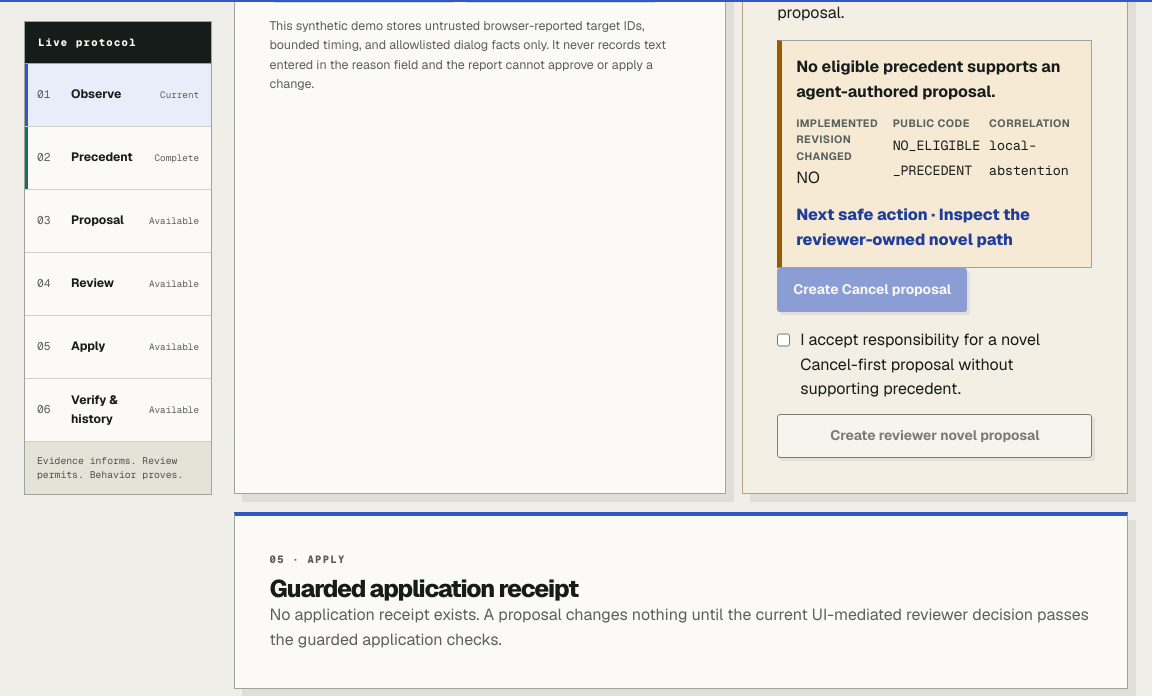
abstention exposes reviewer novel responsibility and never labels it as precedent-supported
(page scrolled)
Check: the button "Create reviewer novel proposal" is disabled, box left=777, top=415, right=1092, bottom=459
Click the checkbox labelled "I accept responsibility" at {"x": 784, "y": 340}, box left=777, top=328, right=790, bottom=352
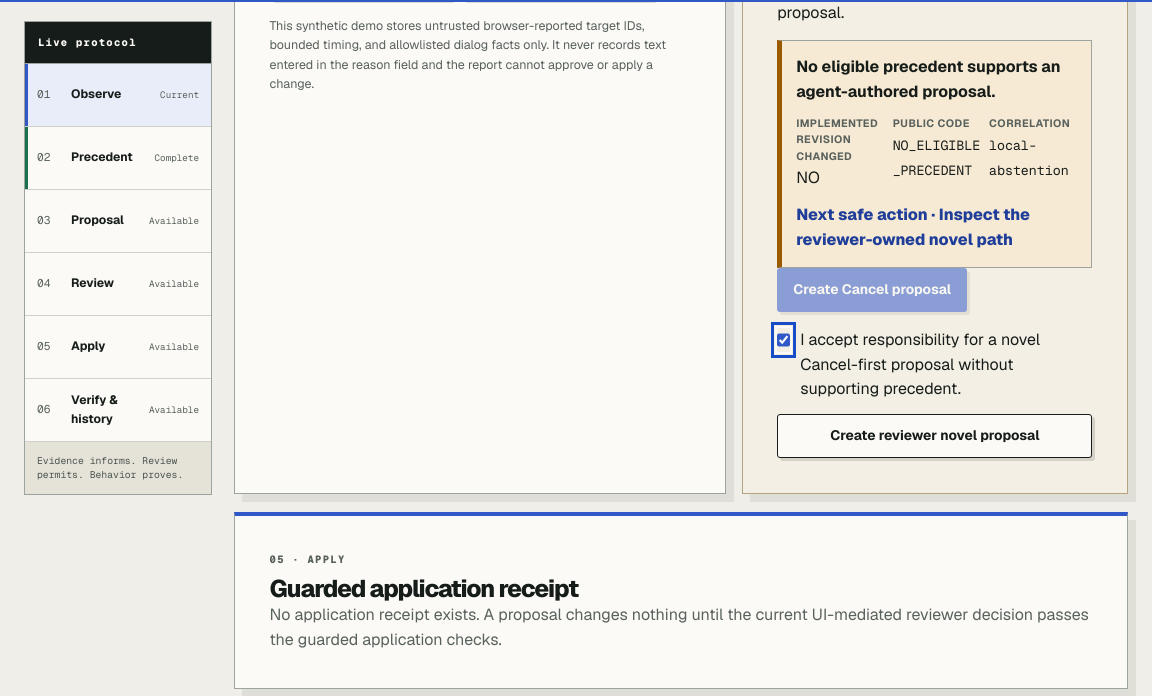
Click the button "Create reviewer novel proposal" at {"x": 935, "y": 437}, box left=777, top=415, right=1092, bottom=459
(page scrolled)
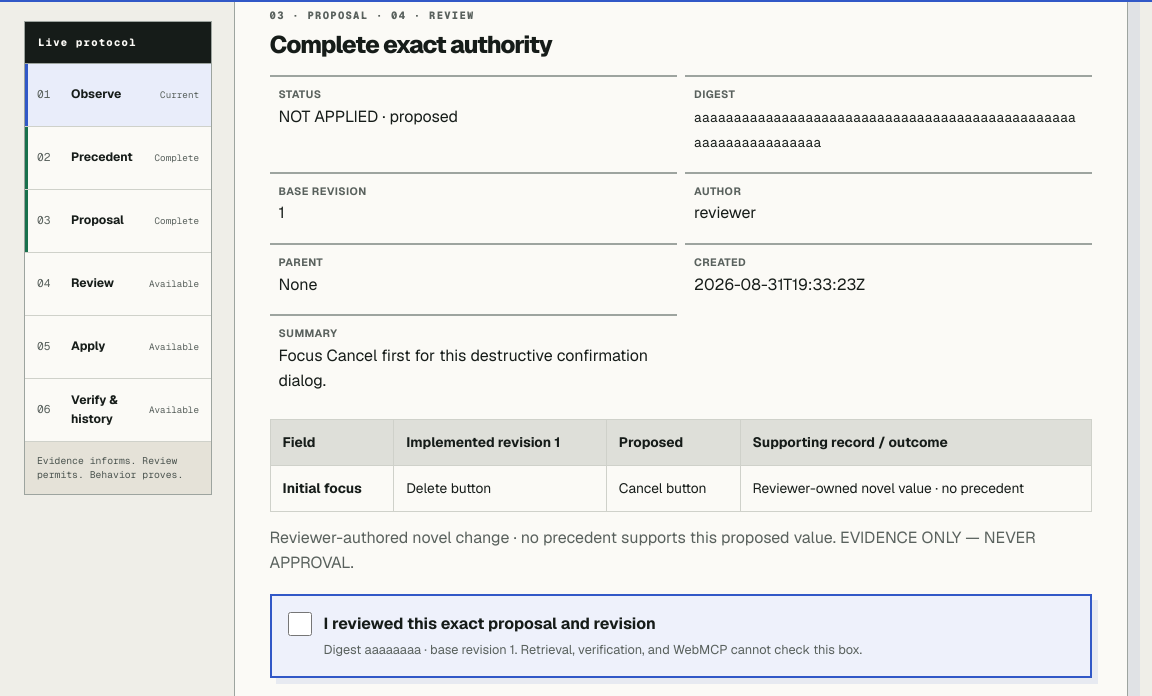
Check: the element "Complete exact authority" shows "reviewer", box left=694, top=202, right=756, bottom=223
Check: the element "Complete exact authority" shows "no precedent supports this proposed value", box left=270, top=527, right=836, bottom=548
